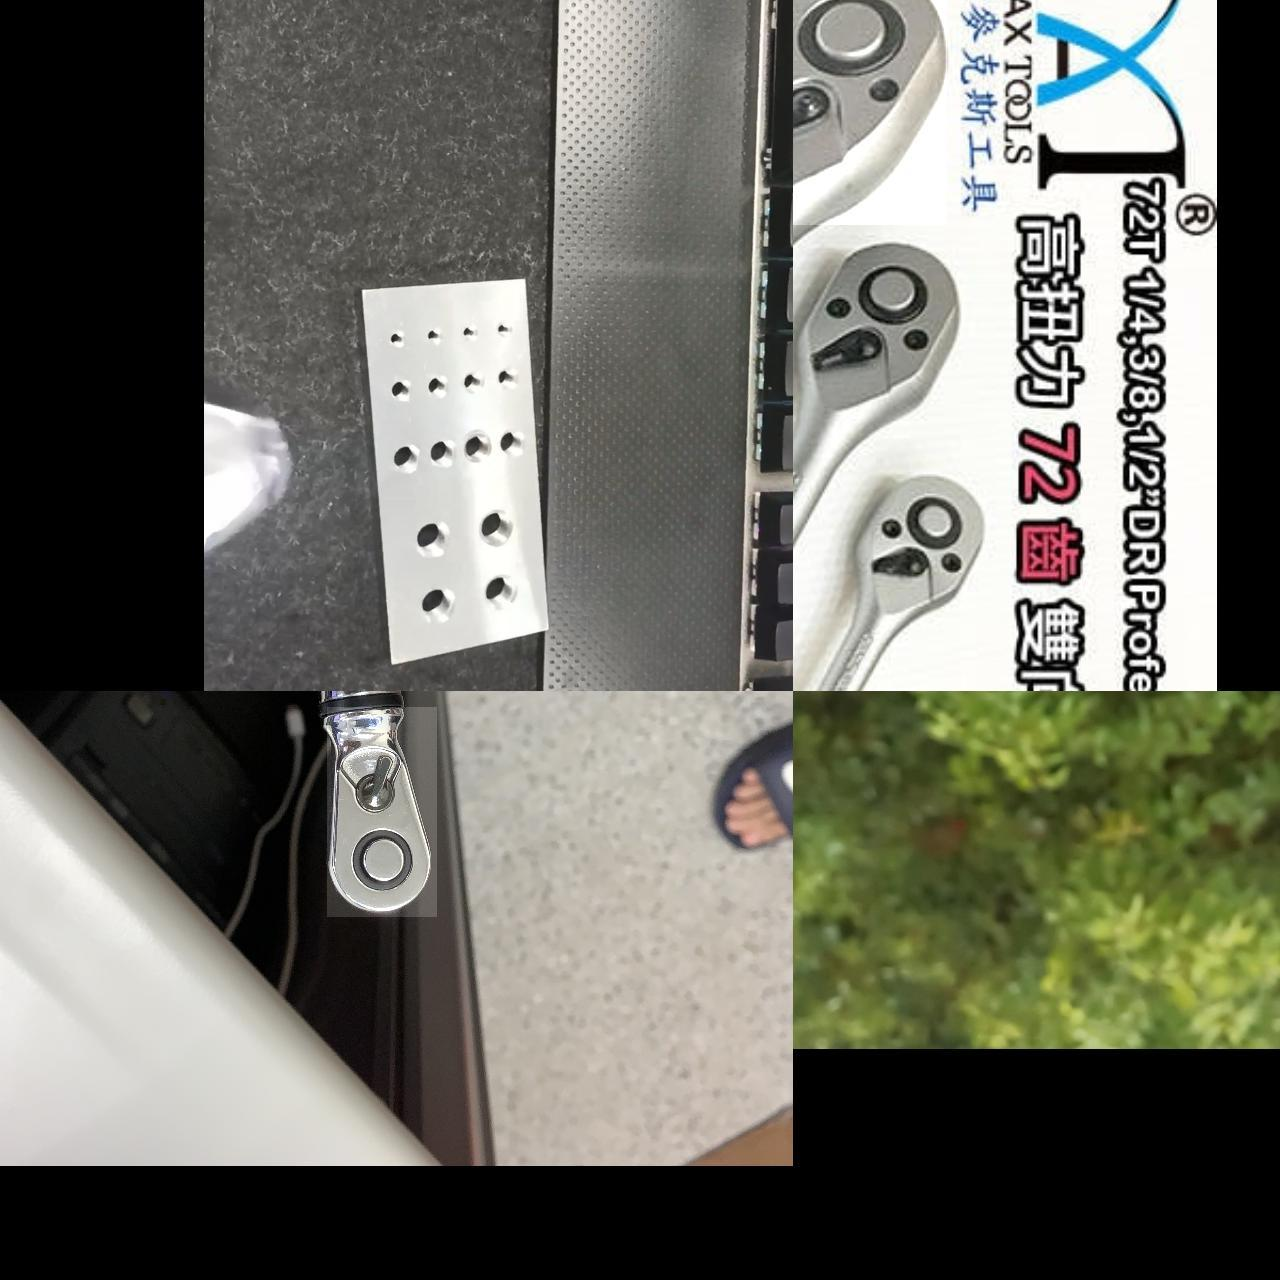Tool: (794, 0, 947, 224), (794, 244, 959, 428), (327, 706, 437, 915), (844, 471, 988, 619)
